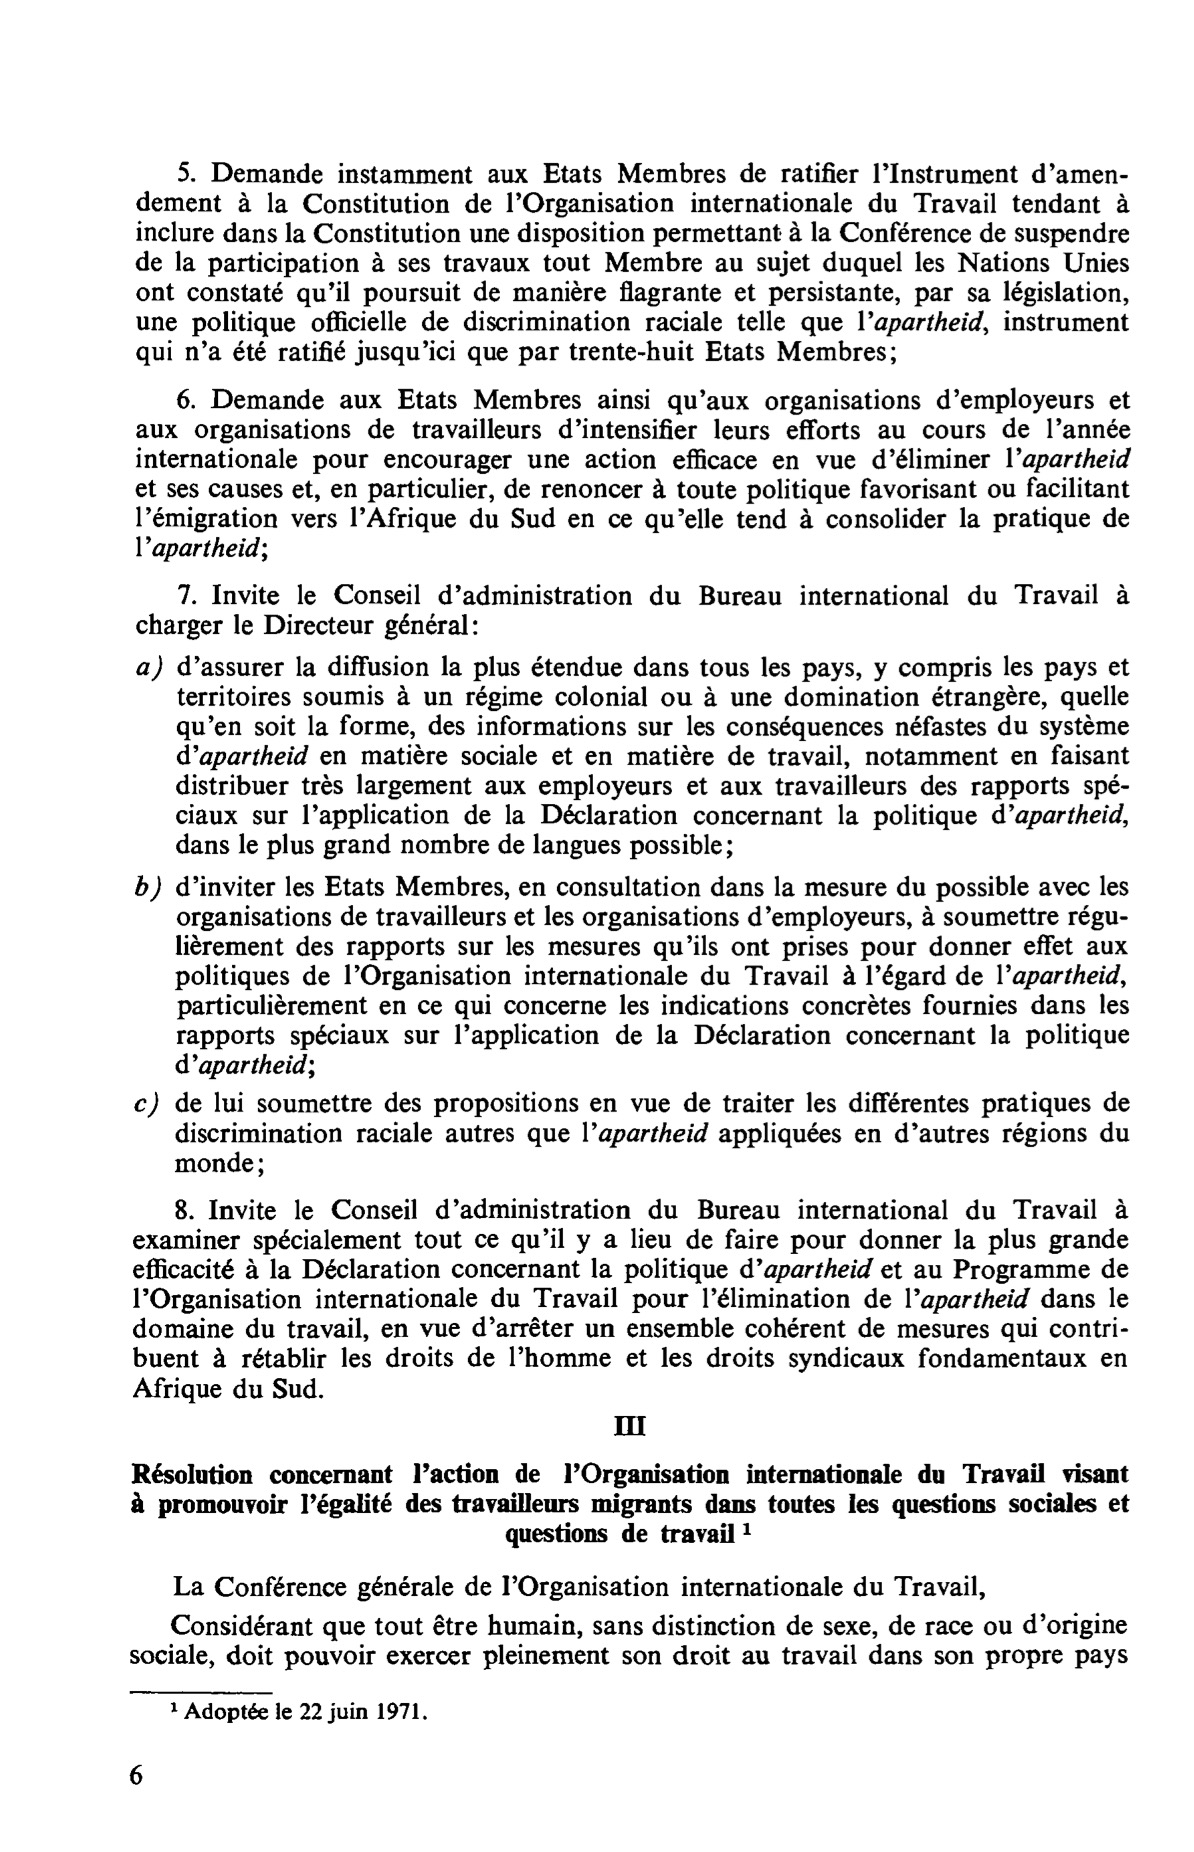MainZone-Head: (119, 1456, 1137, 1550), (605, 1412, 653, 1442)
MainZone-ListItem: (125, 152, 1143, 371), (125, 1187, 1139, 1405), (126, 866, 1141, 1080), (125, 650, 1138, 862), (125, 377, 1142, 567), (126, 1082, 1145, 1182), (125, 574, 1142, 648)
MainZone-P: (124, 1606, 1143, 1674), (160, 1566, 1028, 1603)
MarginTextZone-Notes: (158, 1694, 437, 1732)
NumberingZone: (121, 1757, 153, 1794)
